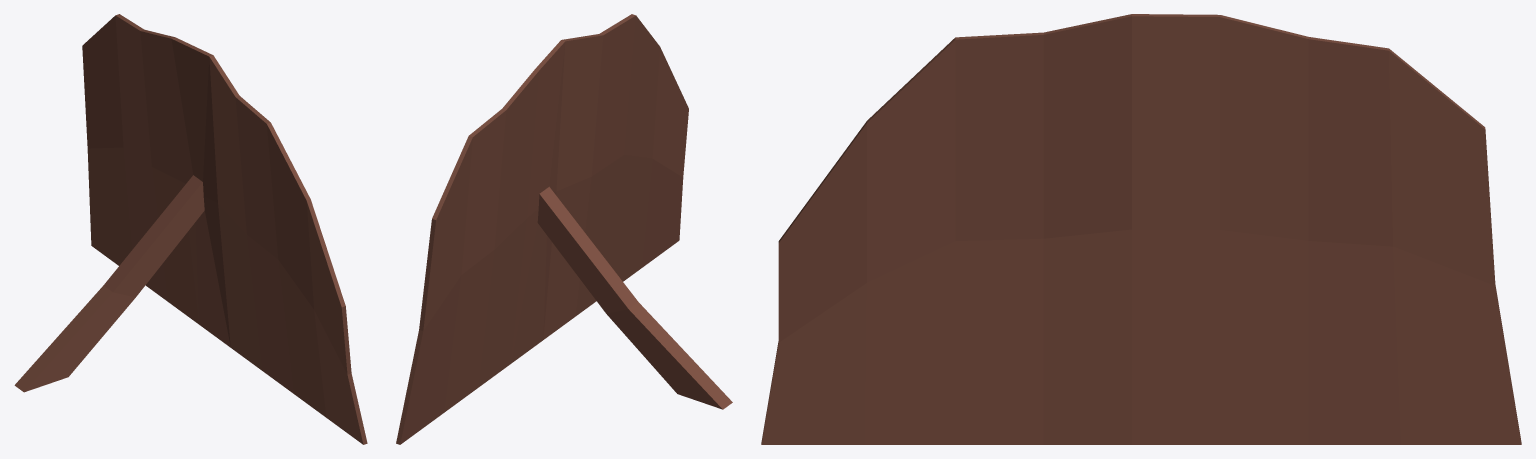
The model's file is carboard.glb.
The picture shows the model from 3 angles, left to right: view 1: azimuth 30°, elevation 25°; view 2: azimuth 150°, elevation 25°; view 3: azimuth 270°, elevation 25°; orthographic projection. The views are drawn at different scales.
Visible parts, largest first — view 1: Cube; view 2: Cube; view 3: Cube.
Part boxes in pixels (<box>): Cube: <box>14,14,367,444</box>; Cube: <box>396,14,732,444</box>; Cube: <box>761,14,1521,444</box>.
Bounding box in the file's own units: 5.11 × 7.36 × 12.03.
Materials: 1 (1 with a texture image).
